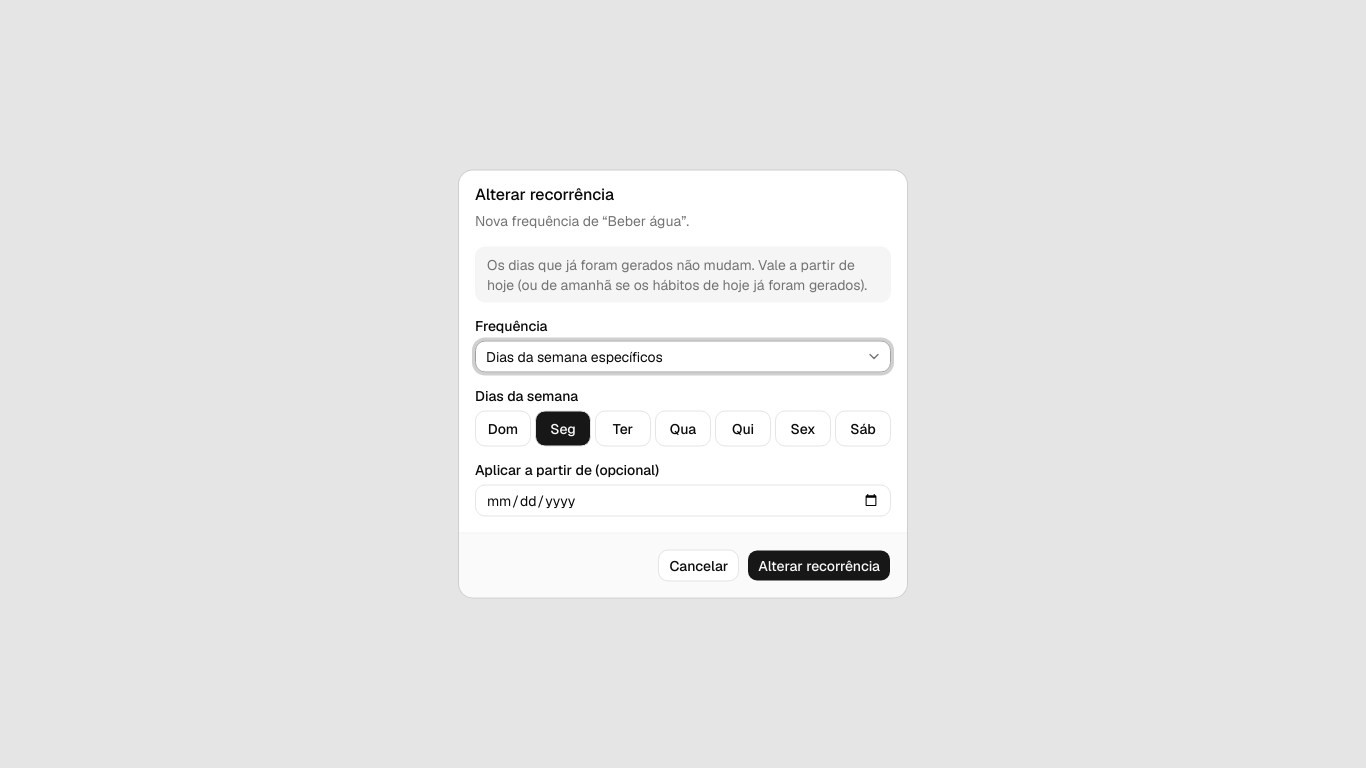
Test: ChangeRecurrenceDialog › requires at least one weekday for specific days
The image size is (1366, 768).
Click the button with aria-label "Segunda-feira" at (563, 428), box [535,410,591,446]
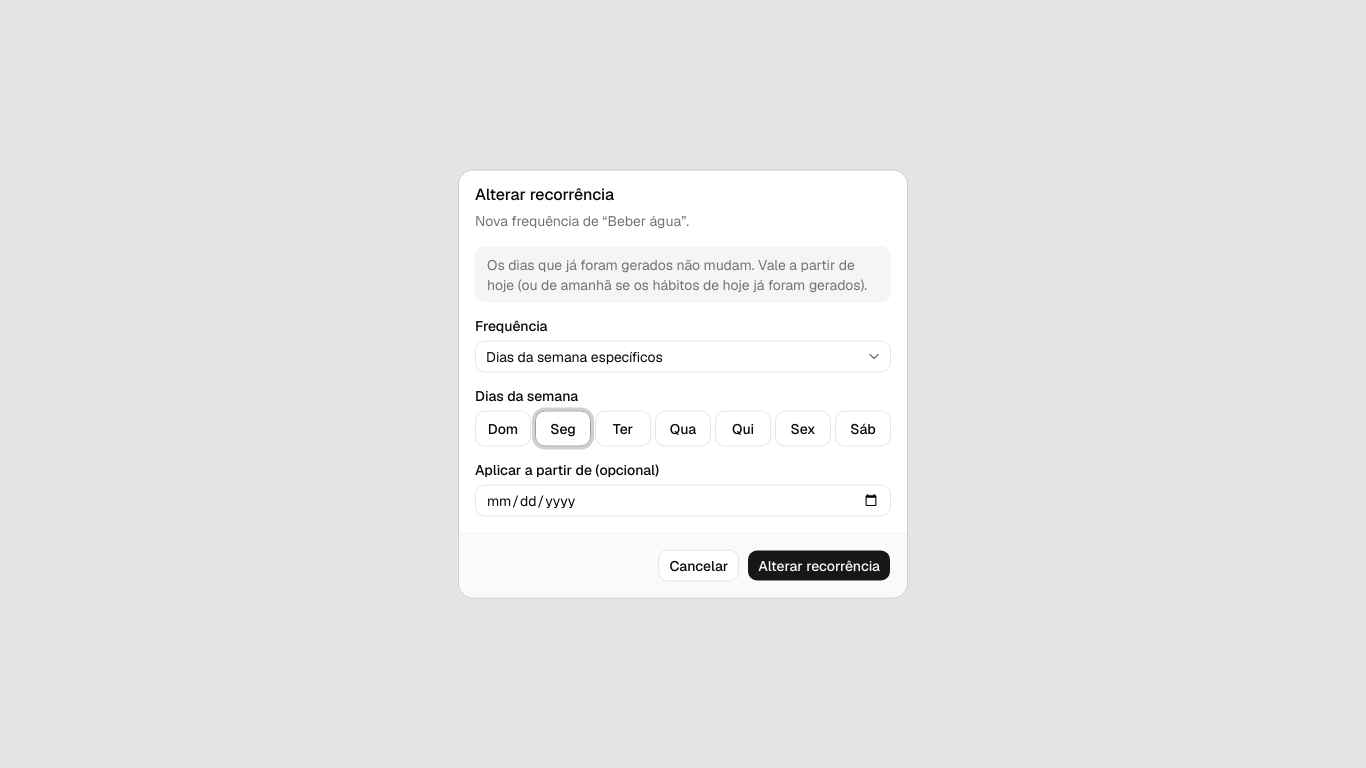
Click the button "Alterar recorrência" at (819, 566), box [747,550,891,582]
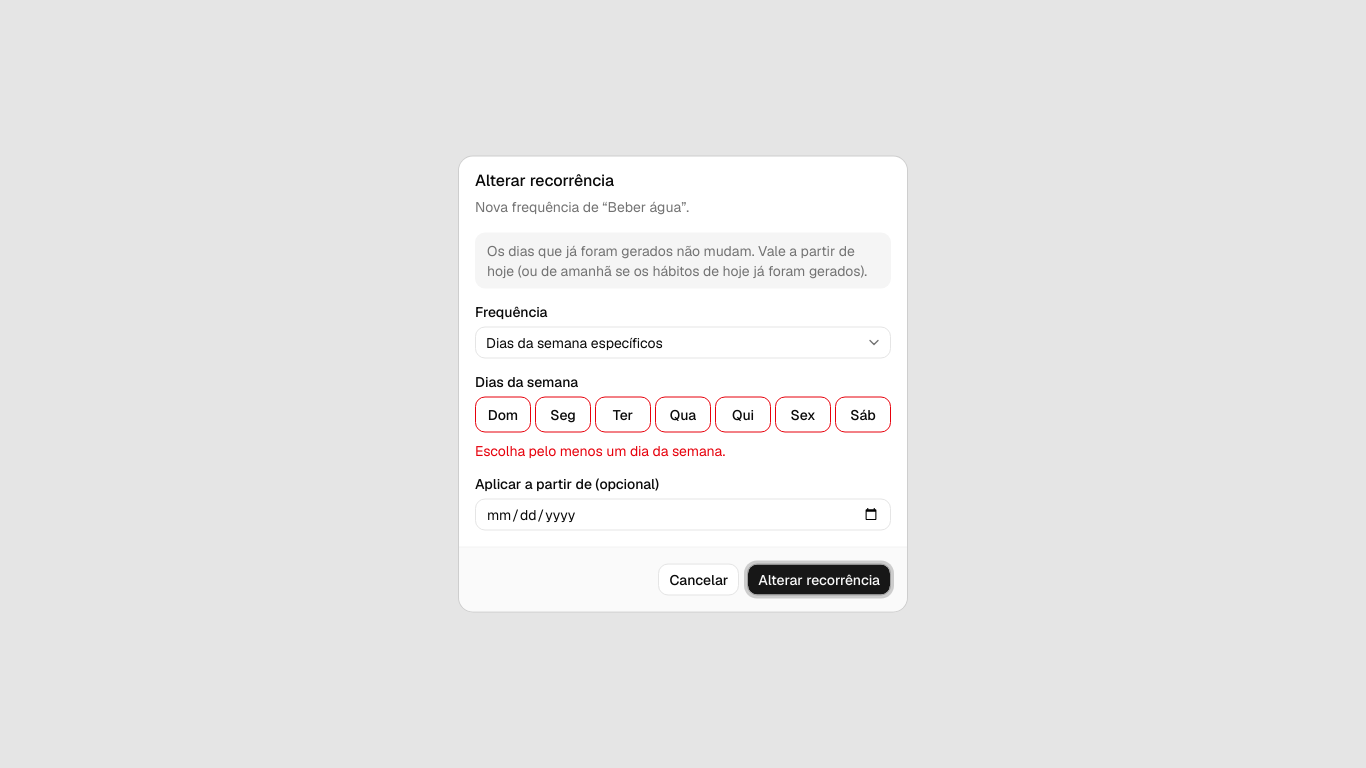
Result: the text "Escolha pelo menos um dia da semana." is shown at [475,442,725,460]
